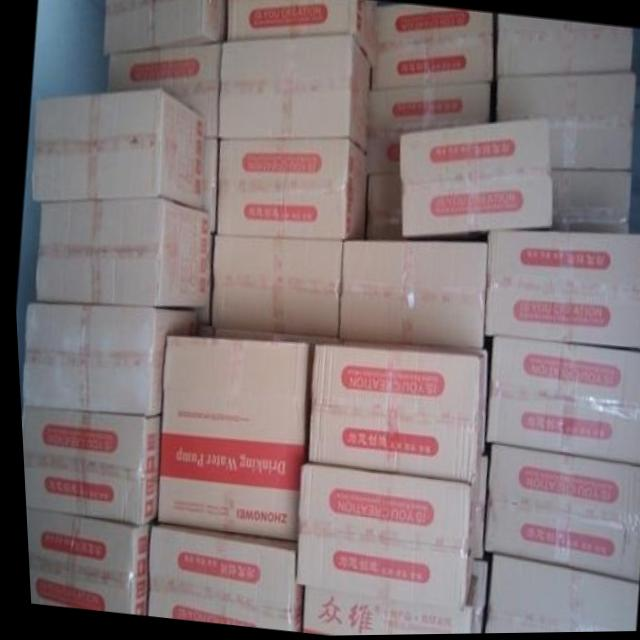box: (151, 332, 312, 545), (292, 454, 481, 615), (304, 341, 482, 484), (477, 446, 640, 584), (481, 337, 640, 468), (28, 90, 204, 208), (16, 304, 193, 416), (479, 231, 640, 350), (398, 116, 552, 237), (32, 201, 206, 307), (217, 41, 368, 156), (18, 408, 159, 526), (140, 527, 294, 633), (336, 243, 485, 350), (215, 142, 365, 240), (493, 72, 636, 171), (294, 563, 483, 637), (207, 235, 340, 339), (21, 515, 147, 616), (477, 556, 632, 635), (364, 85, 489, 177), (102, 45, 220, 139), (368, 4, 492, 89), (224, 0, 372, 65), (497, 17, 631, 76), (103, 0, 228, 54), (550, 170, 631, 235), (364, 177, 400, 243), (199, 140, 217, 234)
